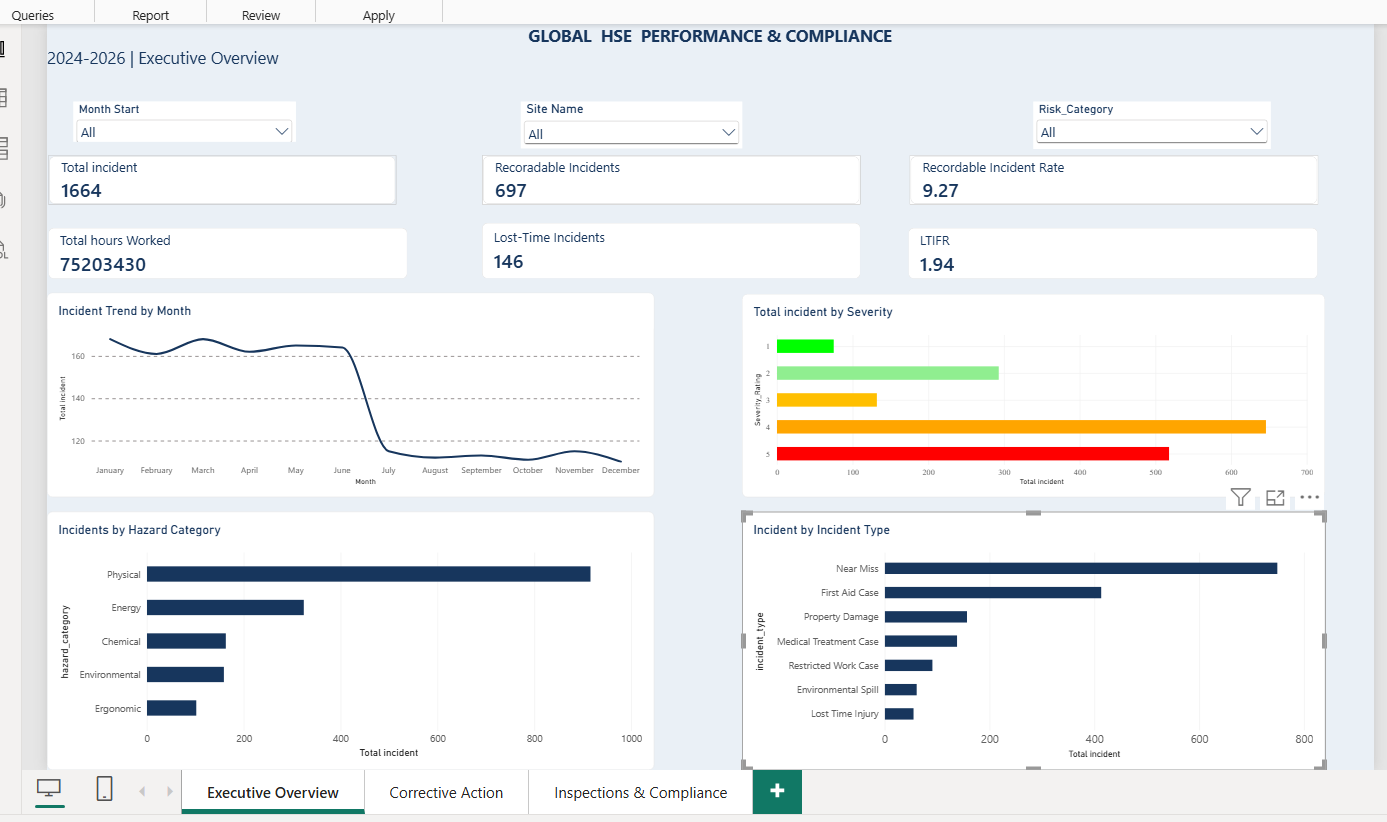

The page's visual inventory and layout, read from the dashboard file:
{"tool":"powerbi","page":{"name":"Executive Overview","canvas":[1920,1080],"ordinal":0},"visuals":[{"type":"cardVisual","fields":{"Data":["incident.Total incident"]},"box":[1.8,190,504.9,72.4],"z":0},{"type":"cardVisual","fields":{"Data":["incident.Recoradable Incidents"]},"box":[629.8,190,548.7,72.7],"z":1000},{"type":"cardVisual","fields":{"Data":["incident.Lost-Time Incidents"]},"box":[1087.4,464.8,684.1,103.2],"z":2000},{"type":"cardVisual","fields":{"Data":["site_monthly_exposure.Total hours Worked"]},"box":[2.1,294.3,520.8,74.1],"z":3000},{"type":"cardVisual","fields":{"Data":["incident.Recordable Incident Rate"]},"box":[1248.7,190,592.3,72.7],"z":4000},{"type":"cardVisual","fields":{"Data":["incident.LTIFR"]},"box":[1246.9,295,593.6,74.2],"z":5000},{"type":"lineChart","title":"Incident Trend by Month","fields":{"Category":["incident.incident_month.Variation.Date Hierarchy.Month"],"Y":["incident.Total incident"]},"box":[0,389,878.9,296.4],"z":6000},{"type":"clusteredBarChart","title":"Total incident by Severity","fields":{"Category":["incident.severity_rating"],"Y":["incident.Total incident"]},"box":[1006.5,391.1,843.9,294.3],"z":7000},{"type":"clusteredBarChart","title":"Incidents by Hazard Category","fields":{"Category":["Hazard_categories.hazard_category"],"Y":["incident.Total incident"]},"box":[0,706,878.9,374.6],"z":8000},{"type":"clusteredBarChart","title":"Incident by Incident Type","fields":{"Category":["incident.incident_type"],"Y":["incident.Total incident"]},"box":[1006.5,706,843.9,374.6],"z":9000},{"type":"textbox","title":"HSE & Safety Performance","box":[0,0,1920.1,97.7],"z":10000},{"type":"slicer","fields":{"Values":["Calendar.Month Start"]},"box":[38,112.2,322.1,58.2],"z":11000},{"type":"slicer","fields":{"Values":["sites.site_name"]},"box":[685.9,112.2,321.1,67.9],"z":12000},{"type":"slicer","fields":{"Values":["sites.risk_category"]},"box":[1427.8,112.2,343.8,68.8],"z":13000},{"type":"cardVisual","fields":{"Data":["incident.Lost-Time Incidents"]},"box":[629.8,287.7,548.3,81.4],"z":14000}]}

Visuals, with their boxes on the page's 1920x1080 design canvas (x1, y1, x2, y2). These are canvas units, not pixel positions in the 1387x822 screenshot, which may show the page scaled, cropped or inside an application window:
cardVisual - incident.Total incident: 2 190 507 262
cardVisual - incident.Recoradable Incidents: 630 190 1178 263
cardVisual - incident.Lost-Time Incidents: 1087 465 1772 568
cardVisual - site_monthly_exposure.Total hours Worked: 2 294 523 368
cardVisual - incident.Recordable Incident Rate: 1249 190 1841 263
cardVisual - incident.LTIFR: 1247 295 1840 369
"Incident Trend by Month" lineChart: 0 389 879 685
"Total incident by Severity" clusteredBarChart: 1006 391 1850 685
"Incidents by Hazard Category" clusteredBarChart: 0 706 879 1081
"Incident by Incident Type" clusteredBarChart: 1006 706 1850 1081
"HSE & Safety Performance" textbox: 0 0 1920 98
slicer - Calendar.Month Start: 38 112 360 170
slicer - sites.site_name: 686 112 1007 180
slicer - sites.risk_category: 1428 112 1772 181
cardVisual - incident.Lost-Time Incidents: 630 288 1178 369
